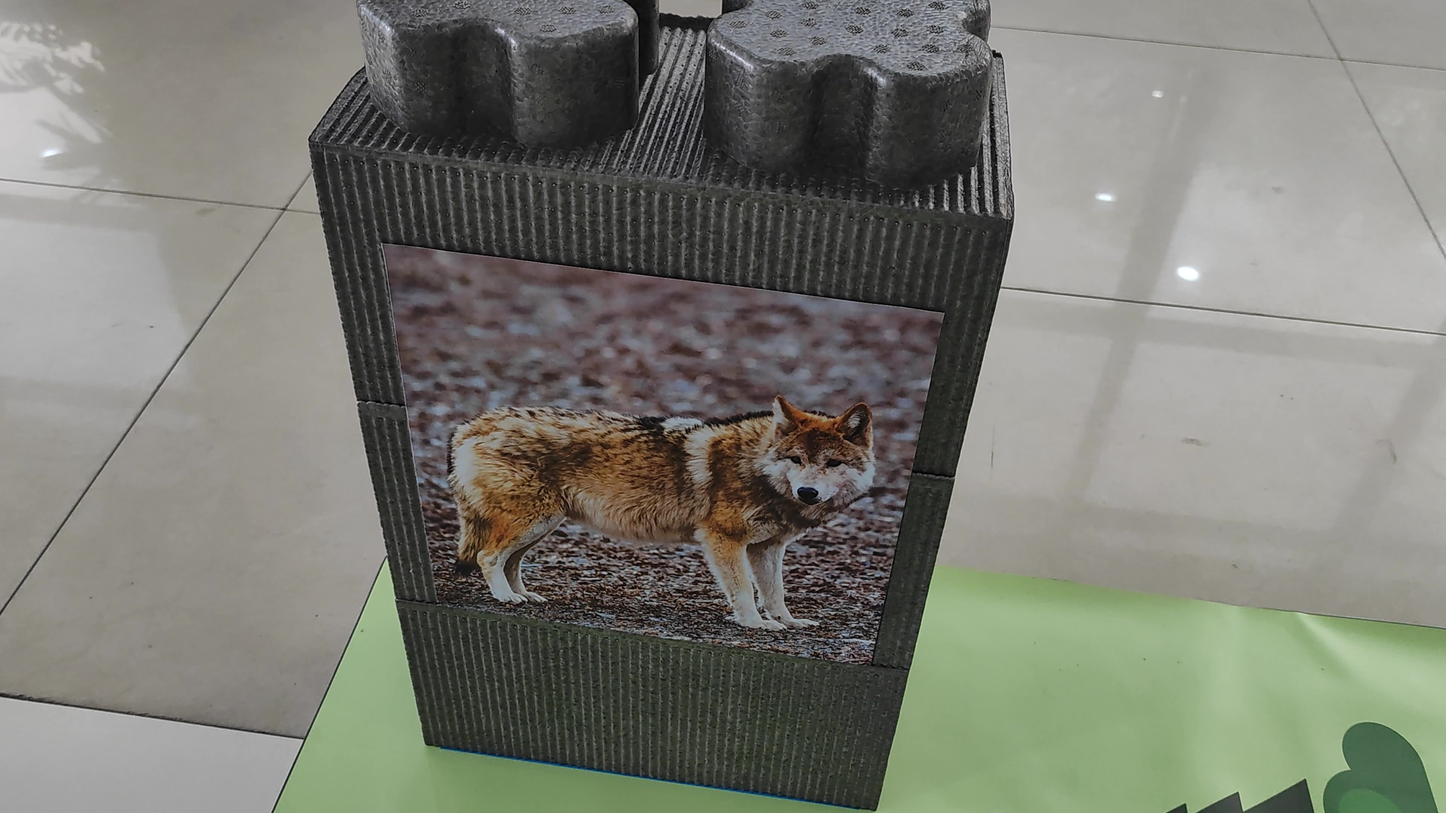wolf: (383, 251, 881, 662)
